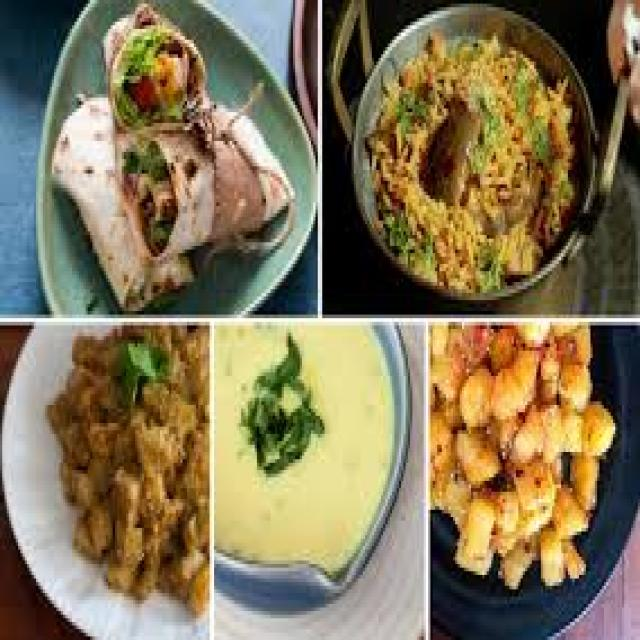UPMA: (365, 33, 579, 289), (426, 322, 613, 582), (45, 322, 207, 604)
